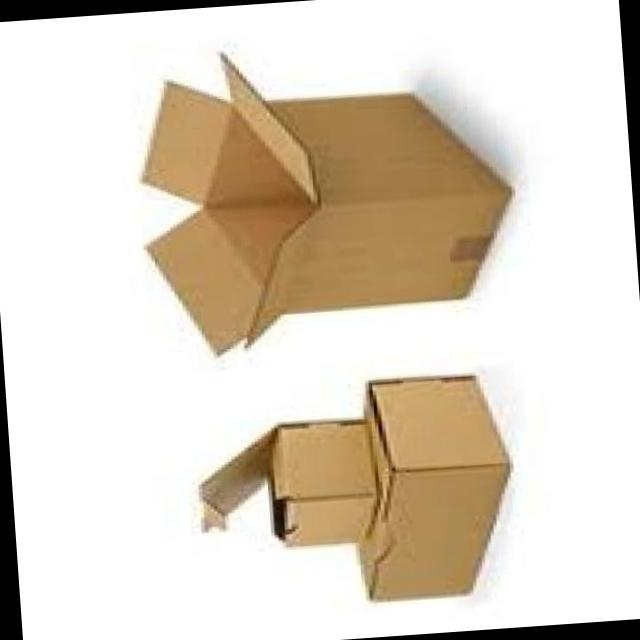cardboard paper: (139, 55, 506, 352), (267, 375, 507, 600)
